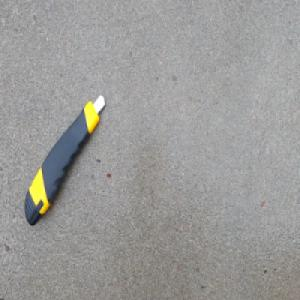Cutter: (25, 88, 106, 223)
